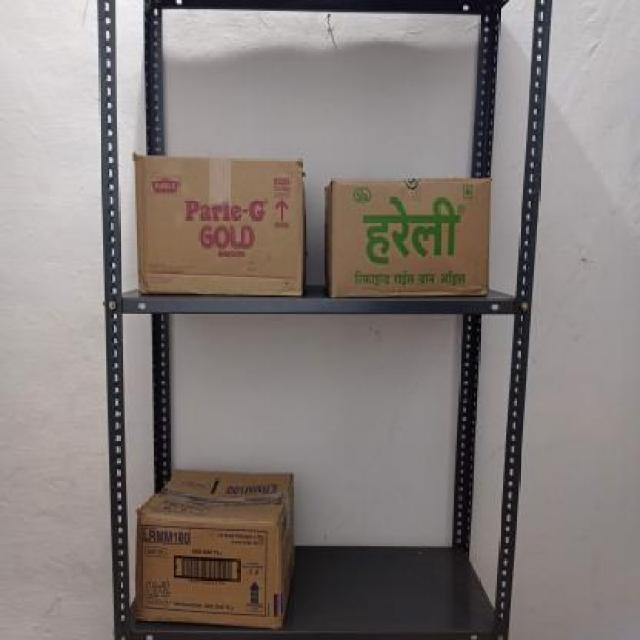box: (135, 156, 303, 293), (329, 177, 489, 296), (132, 514, 280, 622)
